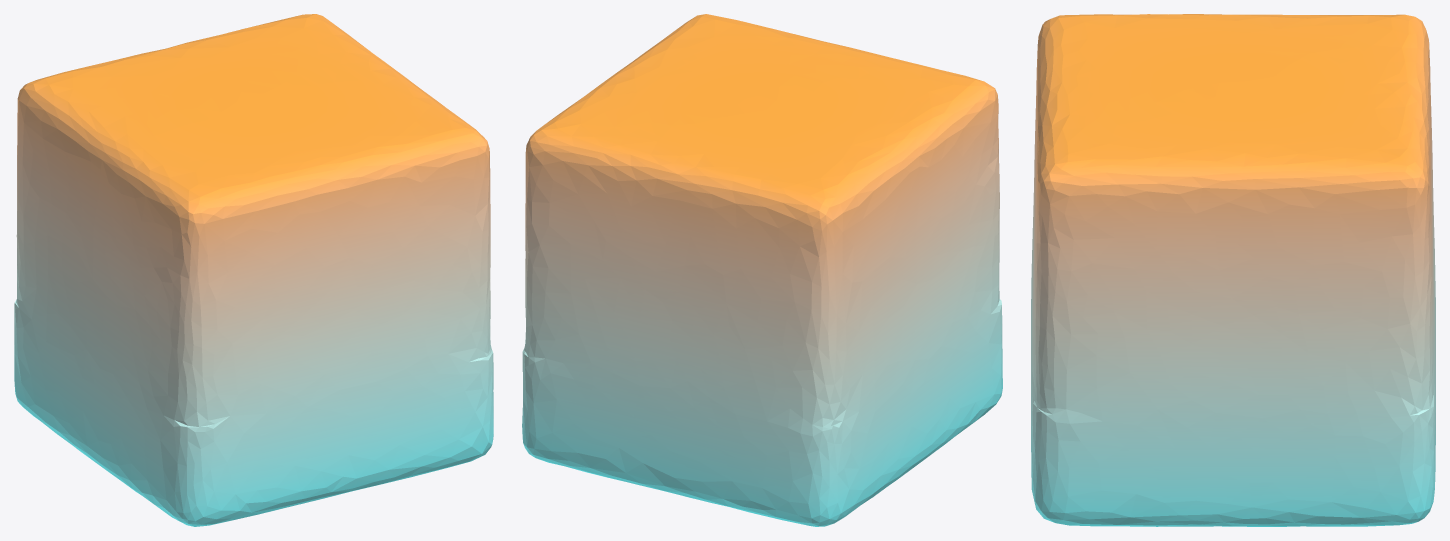
File: 6_cyb_laser_gradient_fish_scales_2994_2026_10_03_517b31.glb
3 renders of one model, left to right at view 1: azimuth 30°, elevation 25°; view 2: azimuth 150°, elevation 25°; view 3: azimuth 270°, elevation 25°, orthographic. The views are drawn at different scales.
Visible parts, largest first — view 1: geometry_0; view 2: geometry_0; view 3: geometry_0.
Boxes of the visible parts, x1,y1,x2,y2 form: geometry_0: [14, 14, 493, 526]; geometry_0: [522, 14, 1002, 526]; geometry_0: [1031, 14, 1435, 526].
Bounding box in the file's own units: 1 × 0.9988 × 1.
